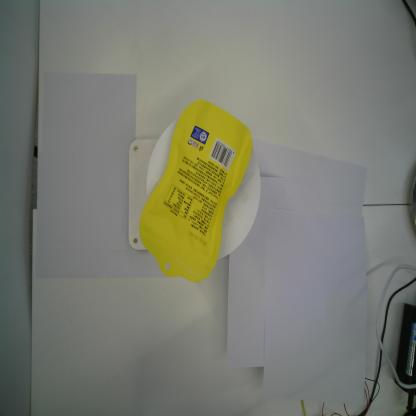Dried Fruit: (138, 100, 254, 284)
